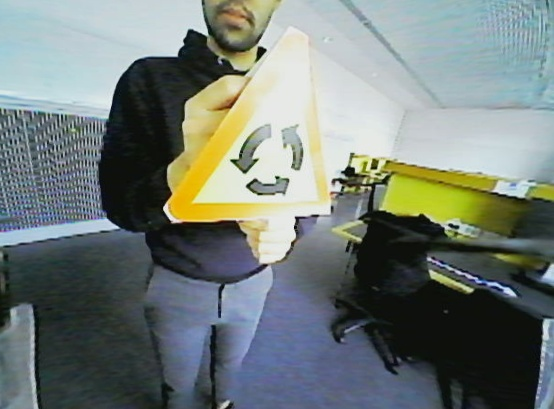roundabout_warning: (160, 24, 344, 227)
